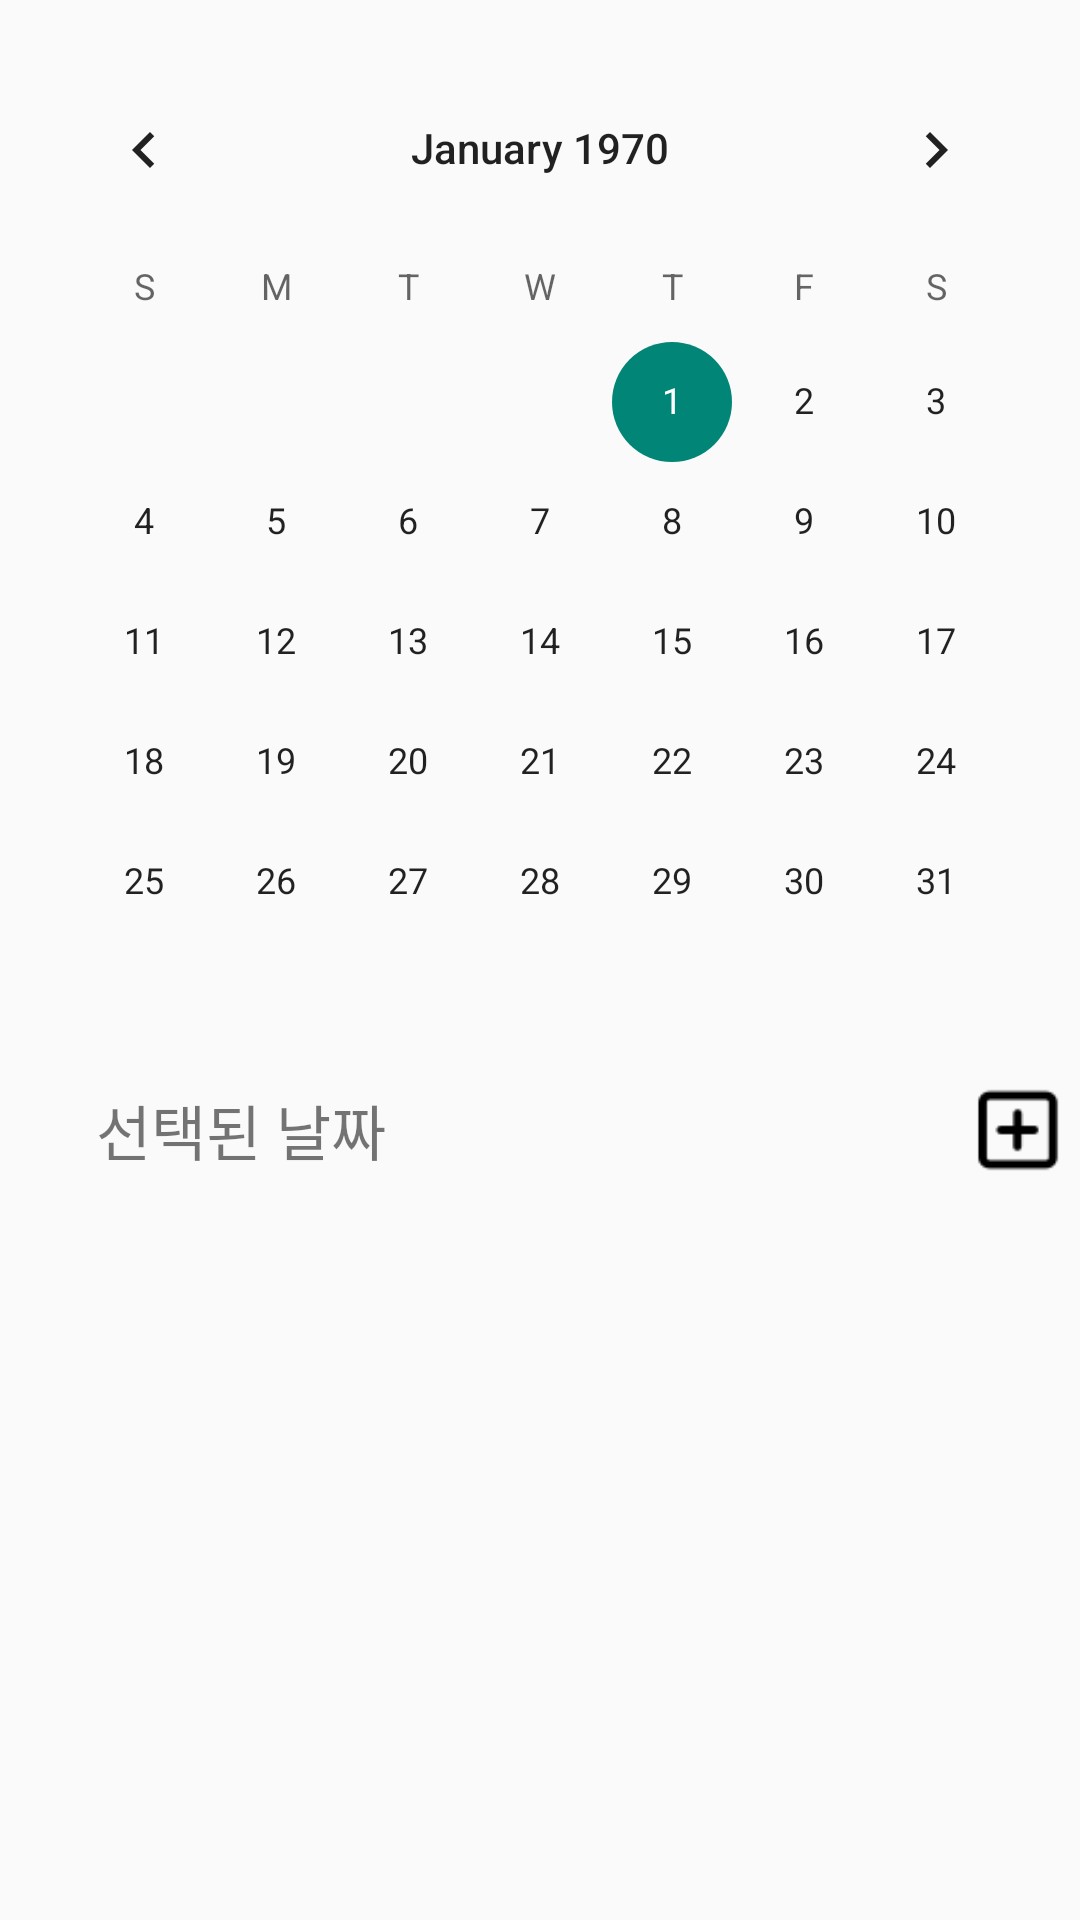

Icon bounding boxes for this 1080w x 1920h phone screenshot, format BBox(x1, y1, x2, y2):
scheduleplus: BBox(978, 1090, 1059, 1170)
